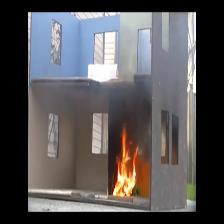fire: (114, 144, 139, 199)
smoke: (113, 87, 148, 118)
